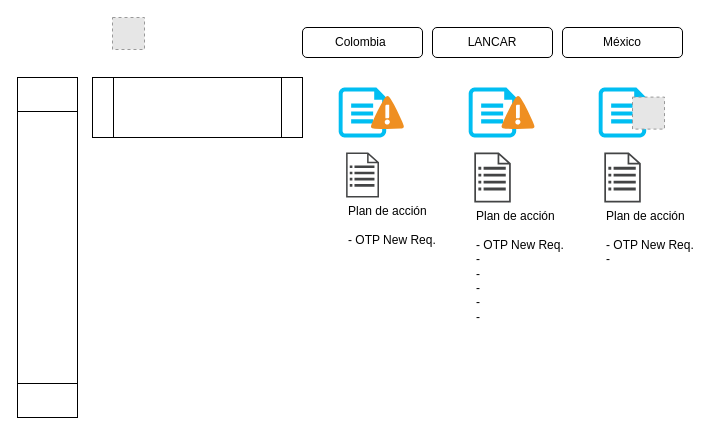
Some shapes in this 712 by 435 pixel diagram are drawn without their labels. Grey dashed boxes stand in for pictures. Each missing label, with the centre of its shape:
"Analisis de Vulnerabilidades" belongs at point 197,107.
"TAB de seguridad" belongs at point 47,247.
